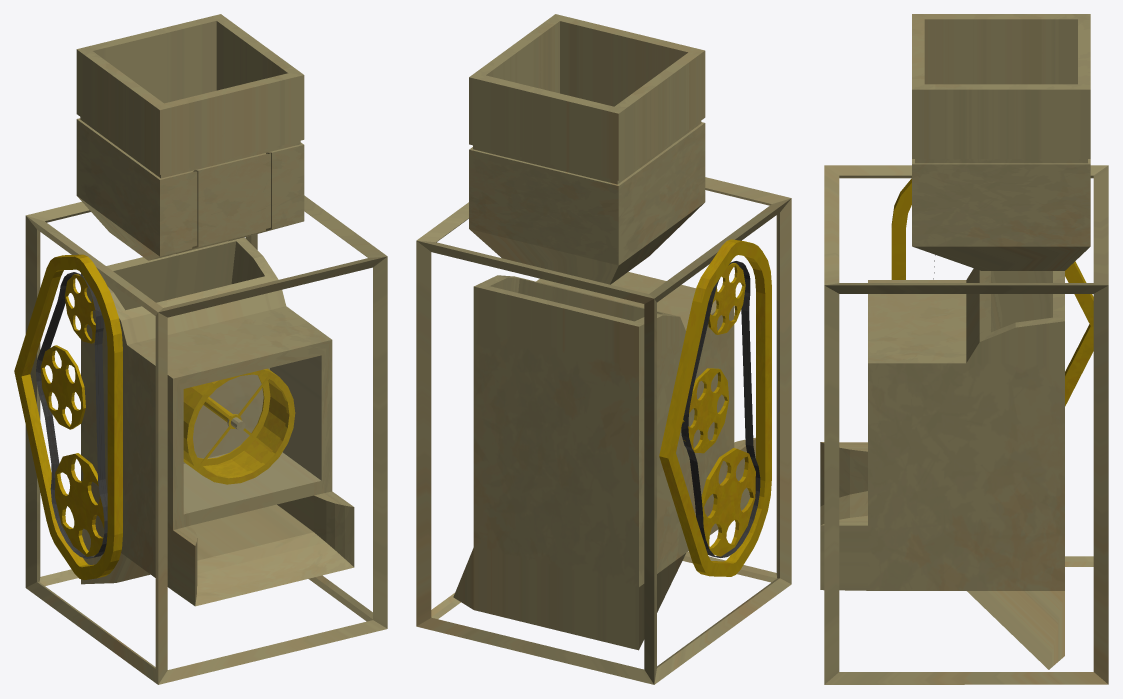
The model's file is model_Descascadora_01.fbx.
The picture shows the model from 3 angles, left to right: view 1: azimuth 30°, elevation 25°; view 2: azimuth 150°, elevation 25°; view 3: azimuth 270°, elevation 25°; orthographic projection. The views are drawn at different scales.
Visible parts, largest first — view 1: Cube.001, Cube.004, Cube, Circle, rotatoria.001, Cube.006, Circle.002, Circle.003, Circle.001; view 2: Cube.001, Cube.004, Cube, Circle, Cube.006, Circle.002, Circle.003, Circle.001; view 3: Cube.001, Cube.004, Cube, Circle.
Part boxes in pixels (x1=…): Cube.001: x1=81, y1=237, x2=354, y2=606; Cube.004: x1=76, y1=14, x2=304, y2=260; Cube: x1=25, y1=195, x2=387, y2=684; Circle: x1=14, y1=254, x2=122, y2=580; rotatoria.001: x1=183, y1=368, x2=295, y2=484; Cube.006: x1=36, y1=272, x2=107, y2=558; Circle.002: x1=55, y1=453, x2=104, y2=556; Circle.003: x1=41, y1=345, x2=85, y2=429; Circle.001: x1=65, y1=274, x2=95, y2=343; Cube.001: x1=453, y1=272, x2=755, y2=650; Cube.004: x1=469, y1=14, x2=705, y2=284; Cube: x1=416, y1=177, x2=791, y2=684; Circle: x1=659, y1=239, x2=771, y2=576; Cube.006: x1=681, y1=261, x2=760, y2=557; Circle.002: x1=701, y1=448, x2=755, y2=556; Circle.003: x1=682, y1=368, x2=728, y2=453; Circle.001: x1=708, y1=263, x2=745, y2=334; Cube.001: x1=820, y1=268, x2=1064, y2=669; Cube.004: x1=912, y1=14, x2=1090, y2=270; Cube: x1=824, y1=165, x2=1108, y2=684; Circle: x1=891, y1=178, x2=1093, y2=406.
Bounding box in the file's own units: 5.18 × 10.93 × 4.98.
2 materials, 1 textured.
